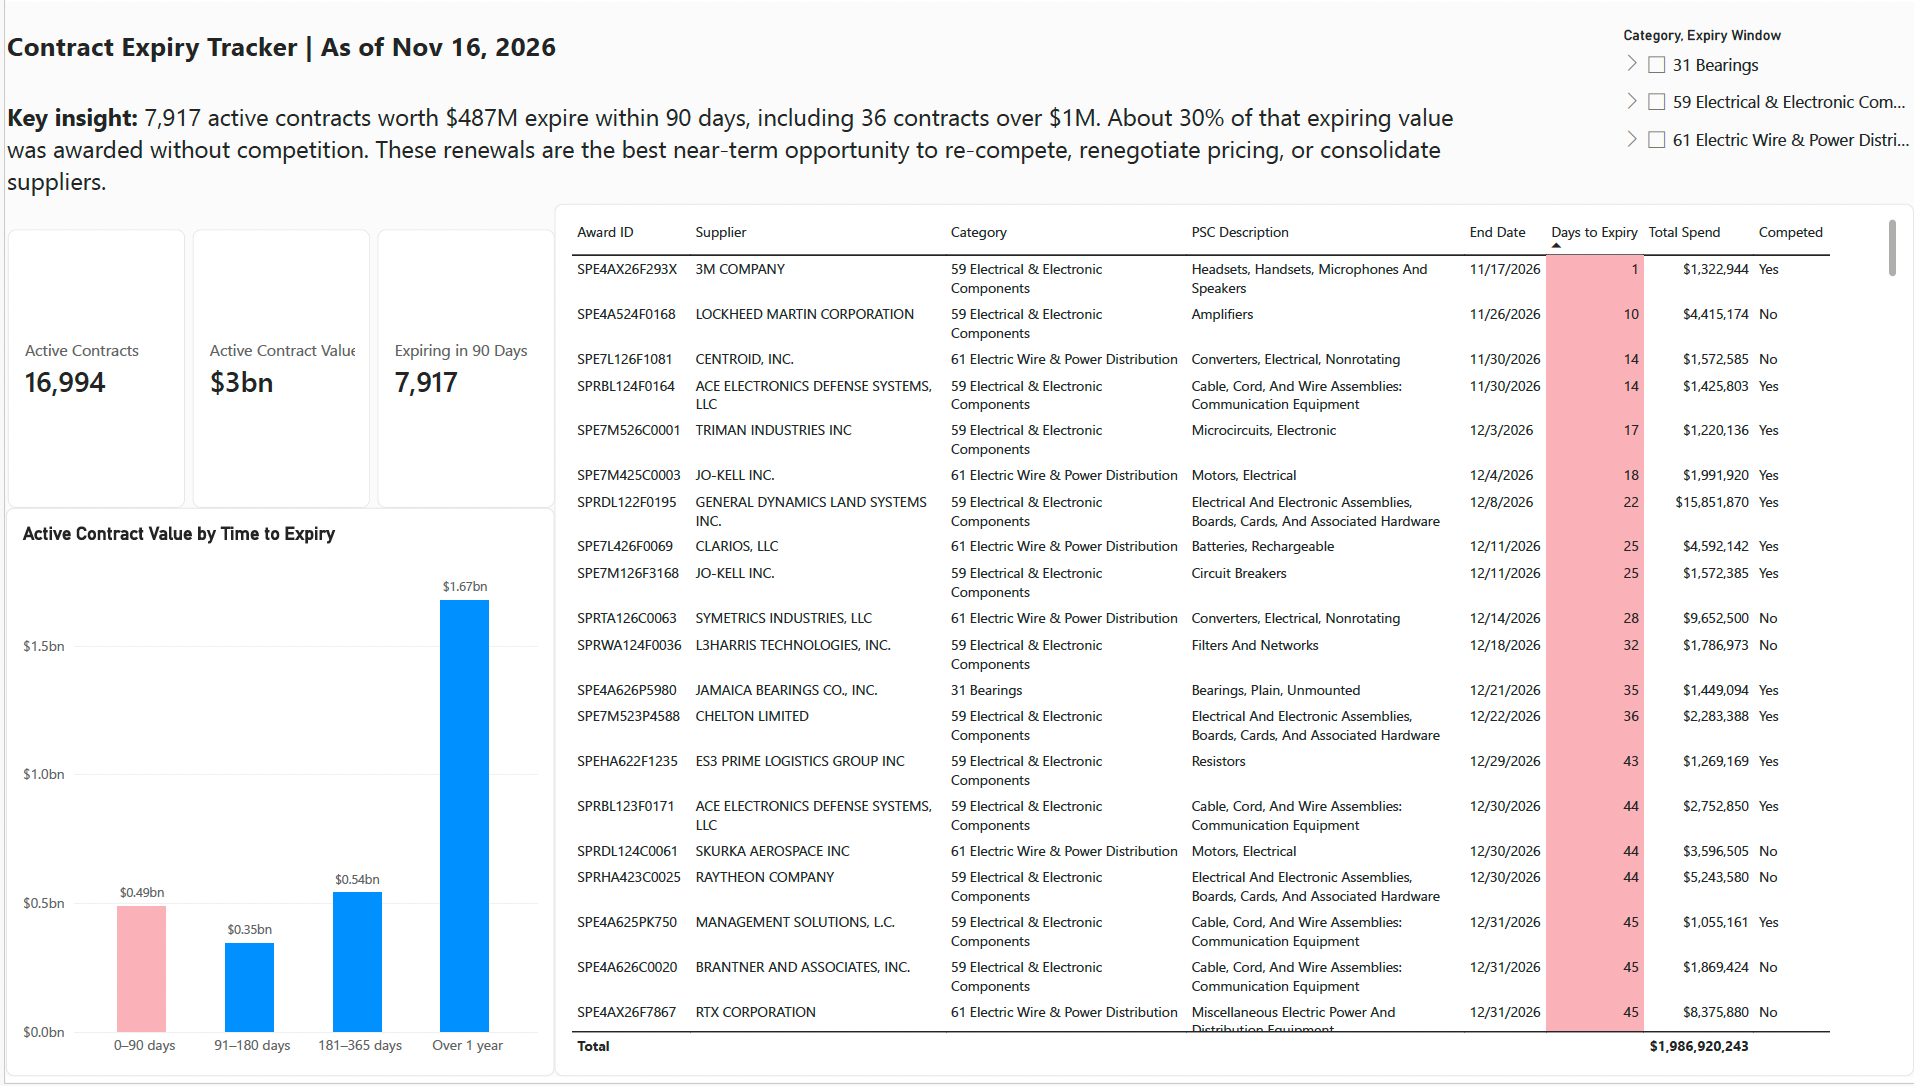

The page's visual inventory and layout, read from the dashboard file:
{"tool":"powerbi","page":{"name":"Contract Tracker","canvas":[1920,1080],"ordinal":3},"visuals":[{"type":"cardVisual","fields":{"Data":["Contracts.Contract Count","Contracts.Total Spend","Contracts.Expiring in 90 Days"]},"box":[2,228,550,280],"z":0},{"type":"clusteredColumnChart","title":"Active Contract Value by Time to Expiry","fields":{"Category":["Contracts.Expiry Window"],"Y":["Contracts.Total Spend"]},"box":[0,508,552,572],"z":1000},{"type":"tableEx","fields":{"Values":["Contracts.Award ID","Contracts.Supplier","Contracts.Category","Contracts.PSC Description","Contracts.End Date","Contracts.Days to Expiry","Contracts.Total Spend","Contracts.Competed"]},"box":[552,202,1368,878],"z":1001},{"type":"slicer","fields":{"Values":["Contracts.Category","Contracts.Expiry Window"]},"box":[1620,24,300,300],"z":1002},{"type":"textbox","box":[1.4,24.3,1467.1,177.1],"z":1003}]}

Visuals, with their boxes in screenshot pixels (x1, y1, x2, y2), scaled from the page's 1920x1080 canvas onto the 1914x1086 screenshot:
cardVisual - Contracts.Contract Count x Contracts.Total Spend: [left=2, top=229, right=550, bottom=511]
"Active Contract Value by Time to Expiry" clusteredColumnChart: [left=0, top=511, right=550, bottom=1085]
tableEx - Contracts.Award ID x Contracts.Supplier: [left=550, top=203, right=1913, bottom=1085]
slicer - Contracts.Category x Contracts.Expiry Window: [left=1615, top=24, right=1913, bottom=326]
textbox: [left=1, top=24, right=1464, bottom=203]
